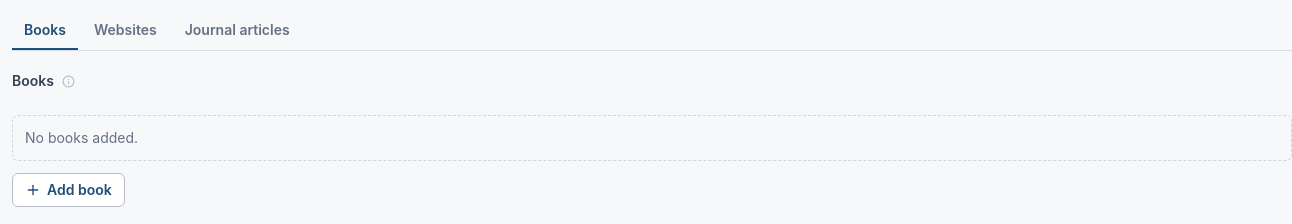
Test: BibliographyEditor › shows one bibliography resource type at a time
Check: the heading "Books" is shown, box [12,72,77,90]
What coordinates should you click on to do the following:
click the tab "Websites"
I would click on:
 (125, 31)
Its box is [82,12,169,50].
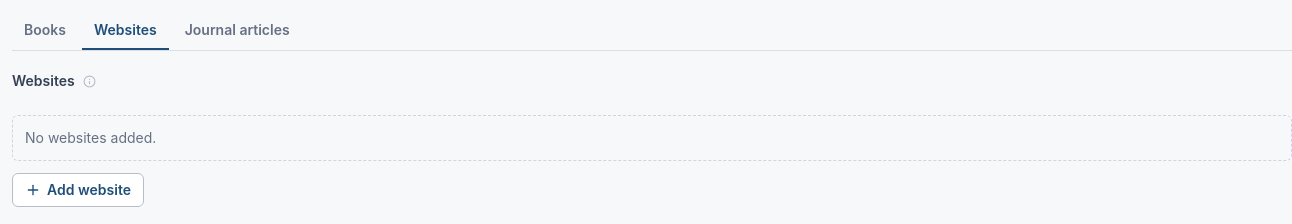
Check: the heading "Websites" is shown, box [12,72,98,90]
What coordinates should you click on to do the following:
click the tab "Journal articles"
I would click on:
 (237, 31)
Its box is [173,12,302,50].
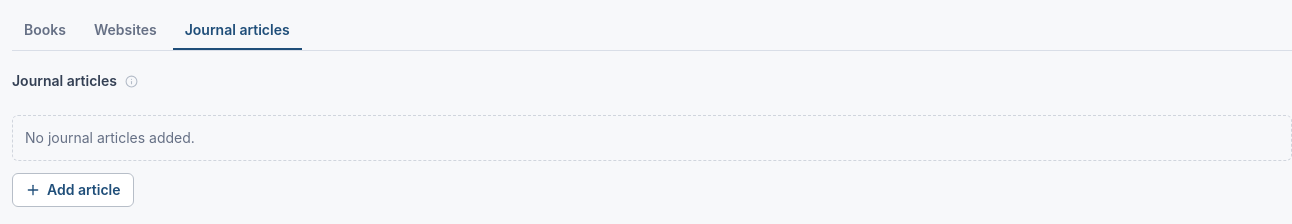
Check: the heading "Journal articles" is shown, box [12,72,140,90]
